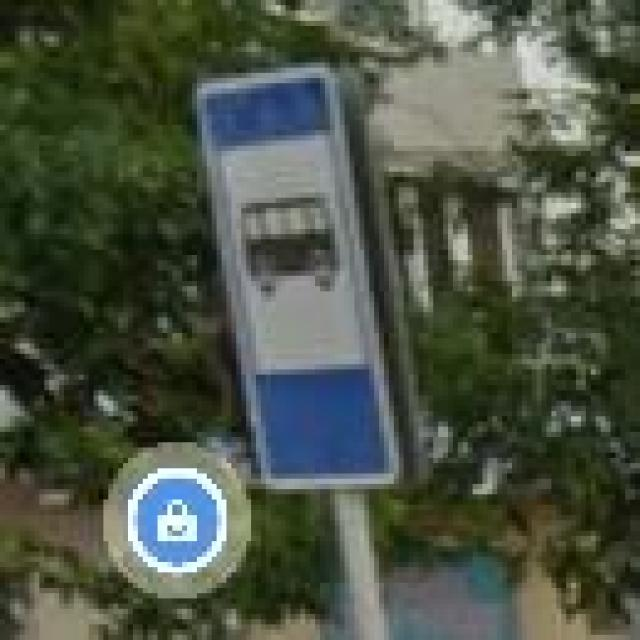bus_stop: (192, 62, 404, 494)
